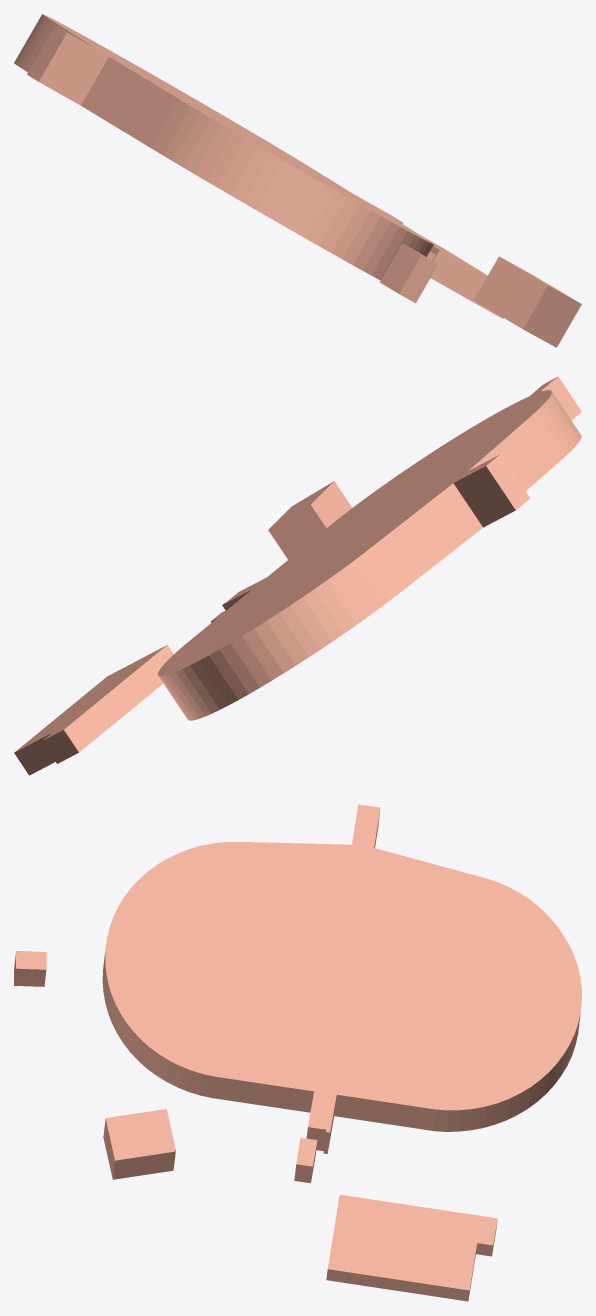
3 views of the same model, one above another, from view 1: azimuth 30°, elevation 25°; view 2: azimuth 150°, elevation 25°; view 3: azimuth 270°, elevation 25° (orthographic). The views are drawn at different scales.
Bounding box in the file's own units: 81.43 × 64.69 × 103.
